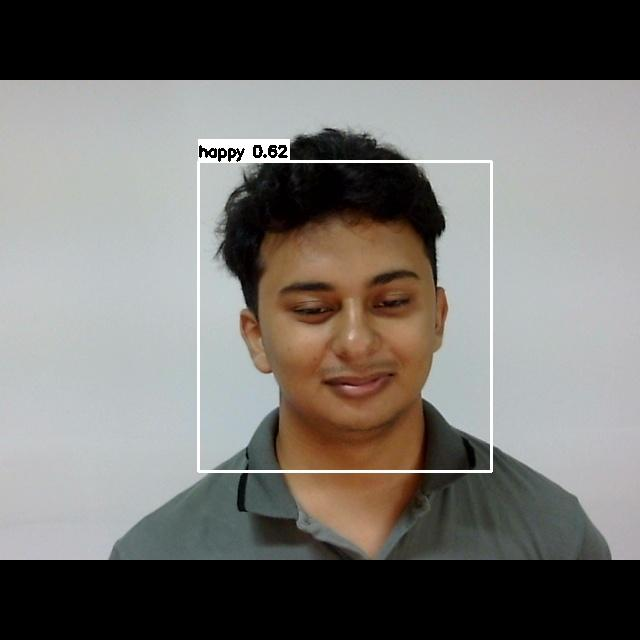Happy: (250, 248, 444, 419)
